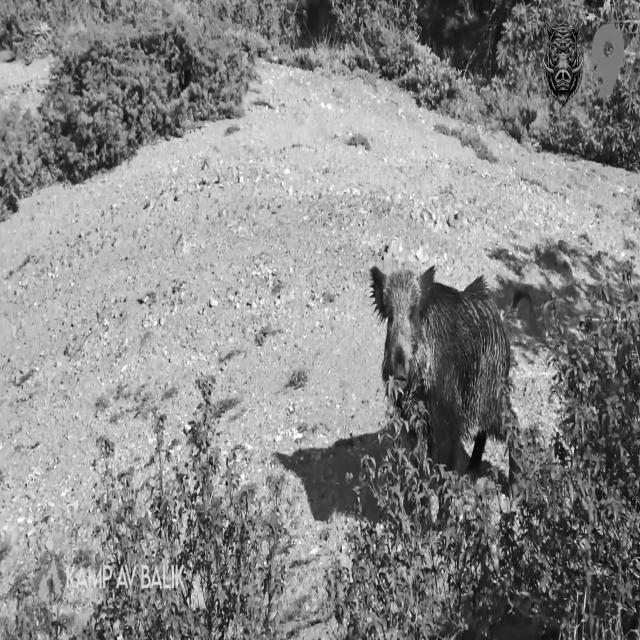boar: (370, 265, 509, 470), (544, 17, 585, 105)
